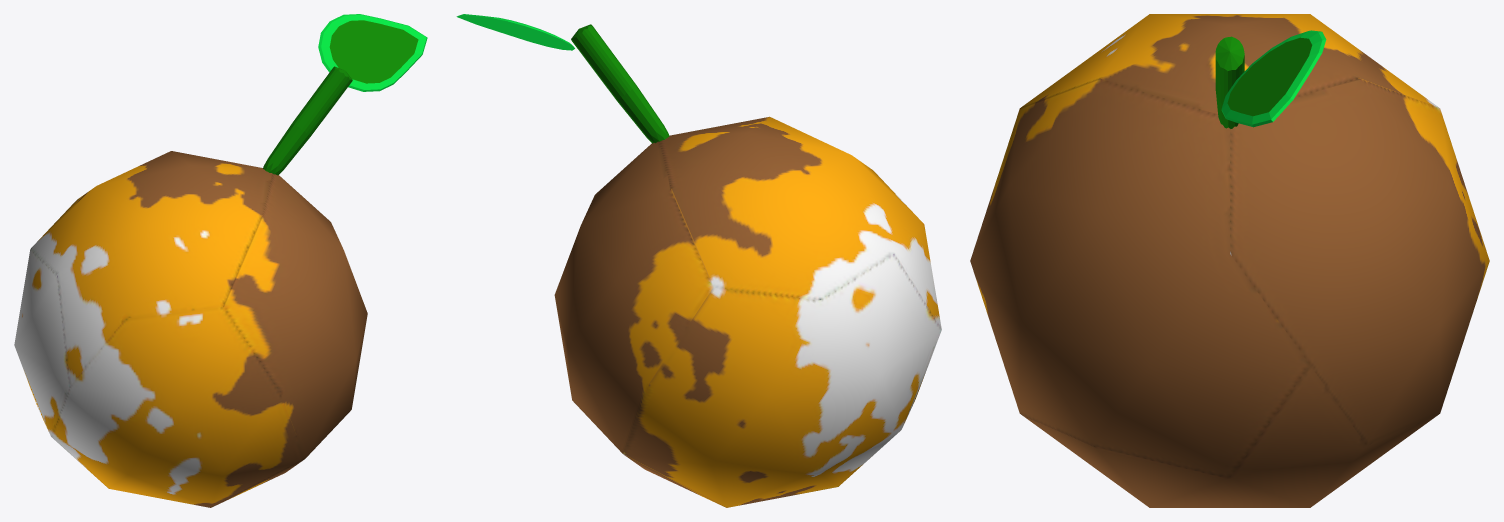
Rendered from orange.fbx.
3 renders of one model, left to right at view 1: azimuth 30°, elevation 25°; view 2: azimuth 150°, elevation 25°; view 3: azimuth 270°, elevation 25°, orthographic. The views are drawn at different scales.
Parts seen in each view (by area): view 1: Icosphere, Circle, Cylinder; view 2: Icosphere, Cylinder, Circle; view 3: Icosphere, Circle, Cylinder.
Part boxes in pixels (<box>): Icosphere: <box>14,151,367,507</box>; Circle: <box>318,14,427,91</box>; Cylinder: <box>263,66,352,175</box>; Icosphere: <box>554,116,941,507</box>; Cylinder: <box>571,24,669,143</box>; Circle: <box>456,14,574,50</box>; Icosphere: <box>970,14,1489,507</box>; Circle: <box>1221,30,1326,127</box>; Cylinder: <box>1215,36,1244,128</box>.
Bounding box in the file's own units: 256 × 249 × 200.
